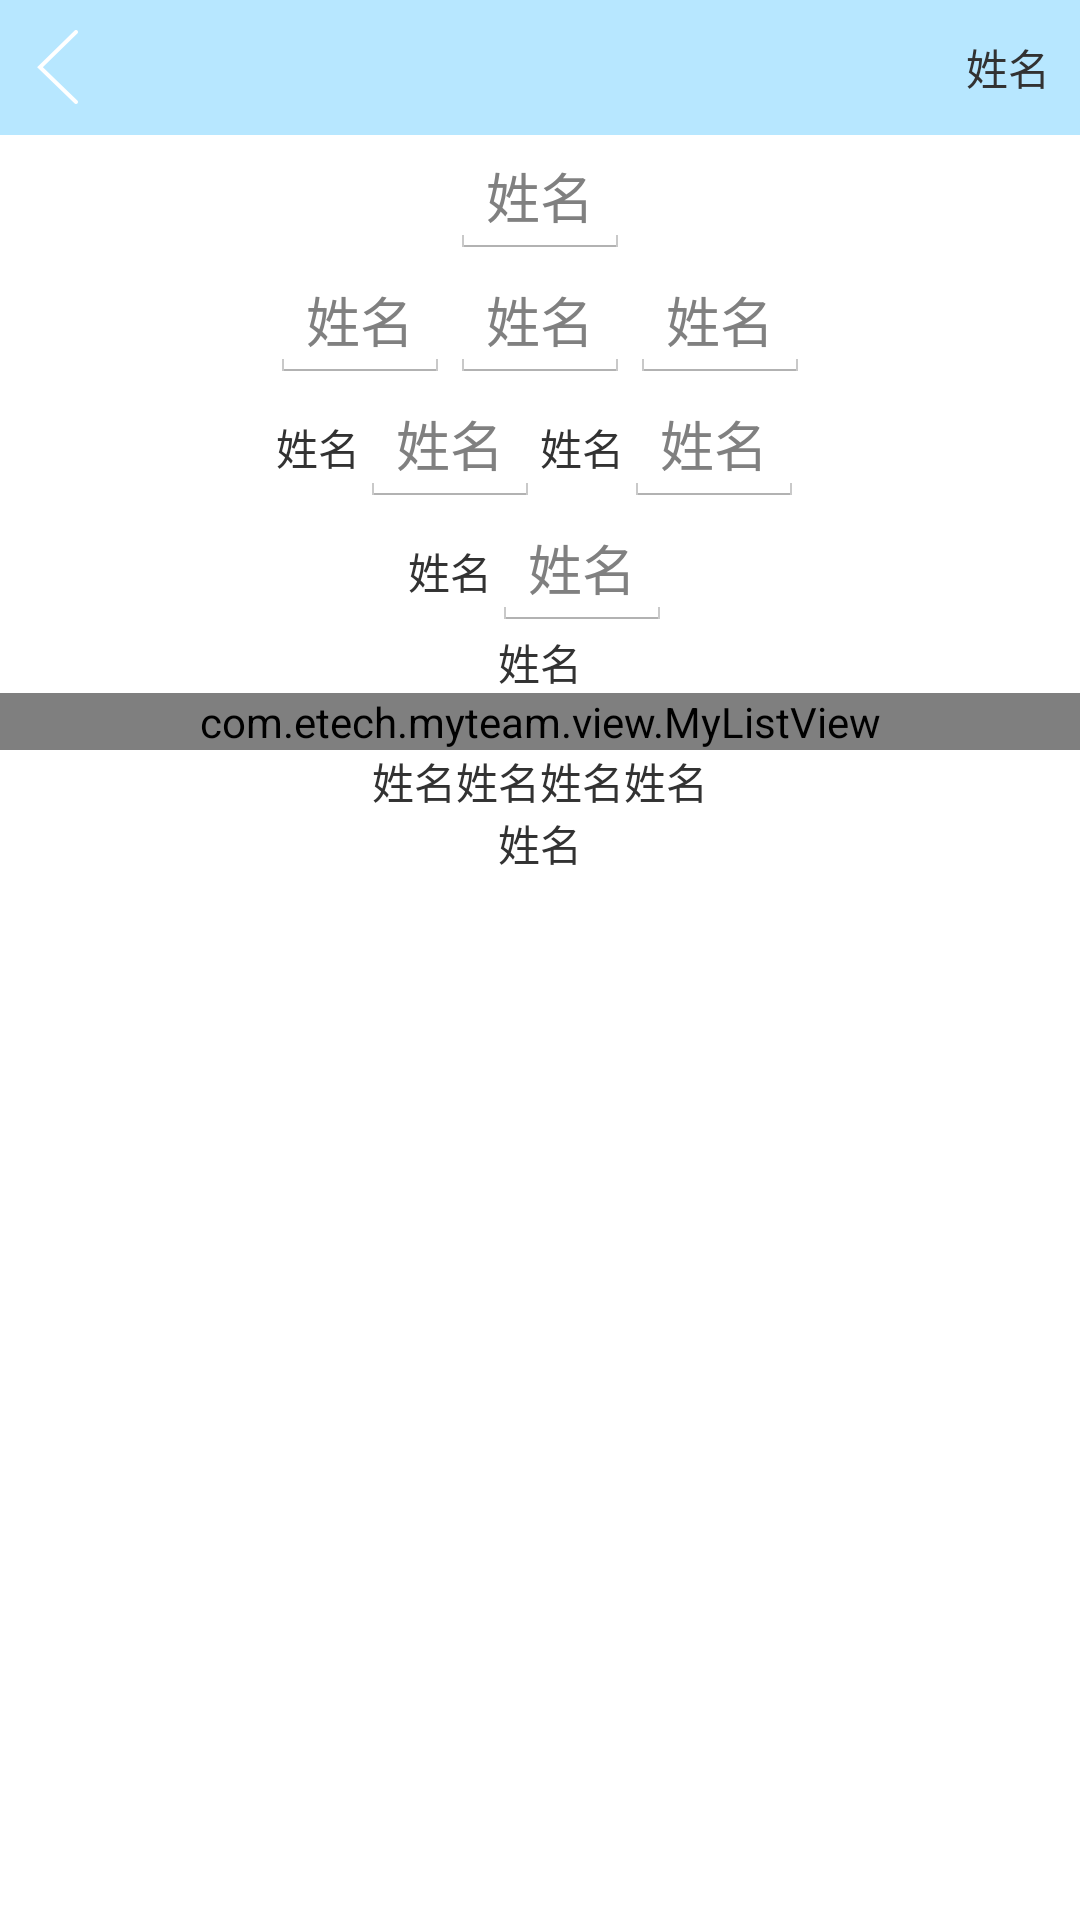

Named icons in this screenshot (1080px x 1920px) and their centers, (x=x, y=y):
returnto: (x=57, y=67)
